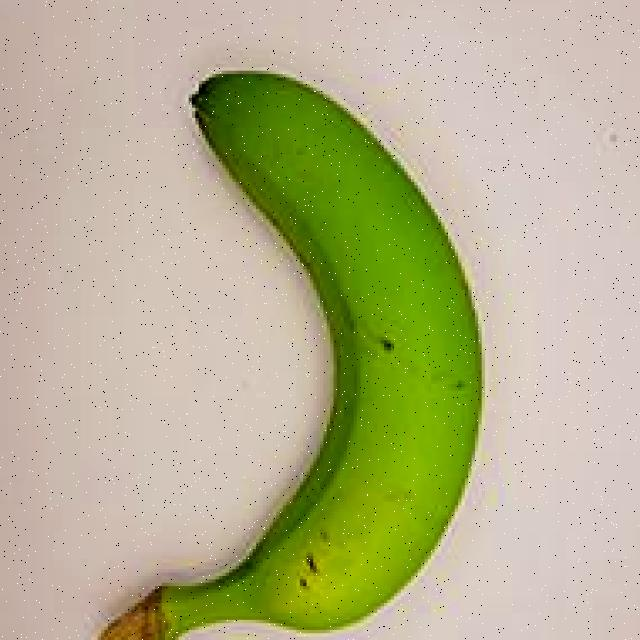Unripe: (70, 47, 508, 640)
